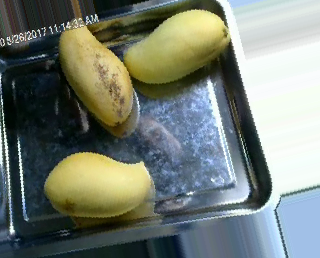Mango: (58, 18, 132, 126), (124, 9, 228, 85), (44, 150, 151, 219)
